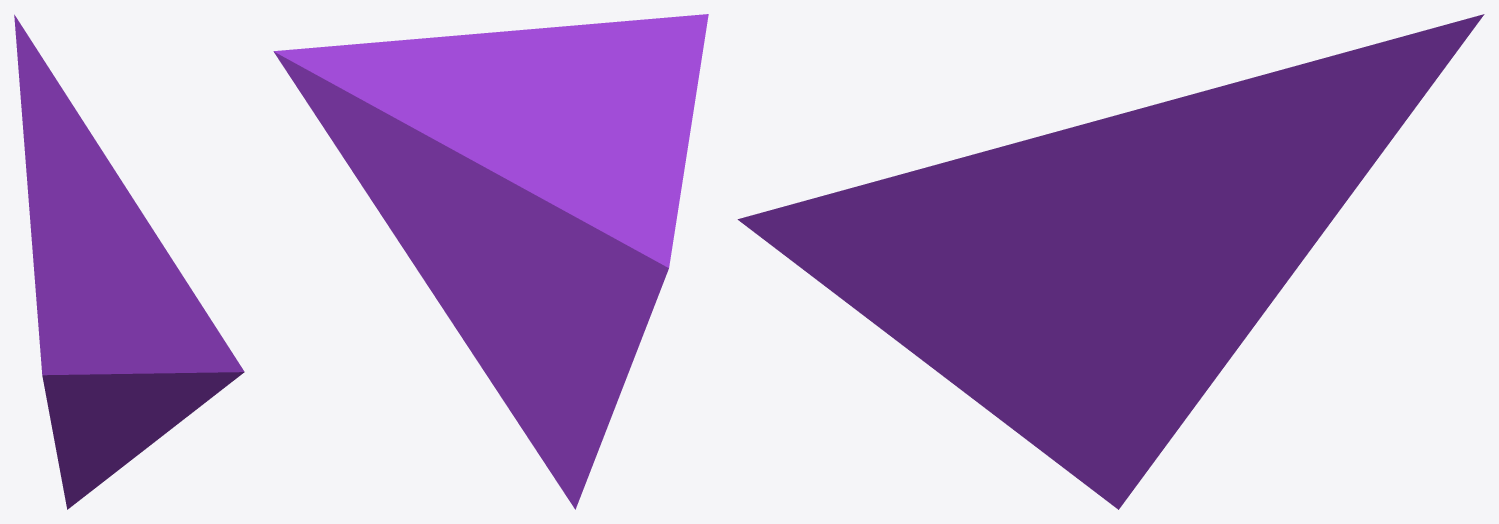
Rendered from Window_2_10_chunks.fbx.
3 views of the same model, side by side, from view 1: azimuth 30°, elevation 25°; view 2: azimuth 150°, elevation 25°; view 3: azimuth 270°, elevation 25° (orthographic). The views are drawn at different scales.
Visible parts, largest first — view 1: Window_2_10_0; view 2: Window_2_10_0; view 3: Window_2_10_0.
Boxes of the visible parts, left/top/right/bottom form: Window_2_10_0: left=14, top=14, right=244, bottom=509; Window_2_10_0: left=273, top=14, right=708, bottom=509; Window_2_10_0: left=737, top=14, right=1484, bottom=509.
Bounding box in the file's own units: 19.38 × 59.75 × 73.83.
